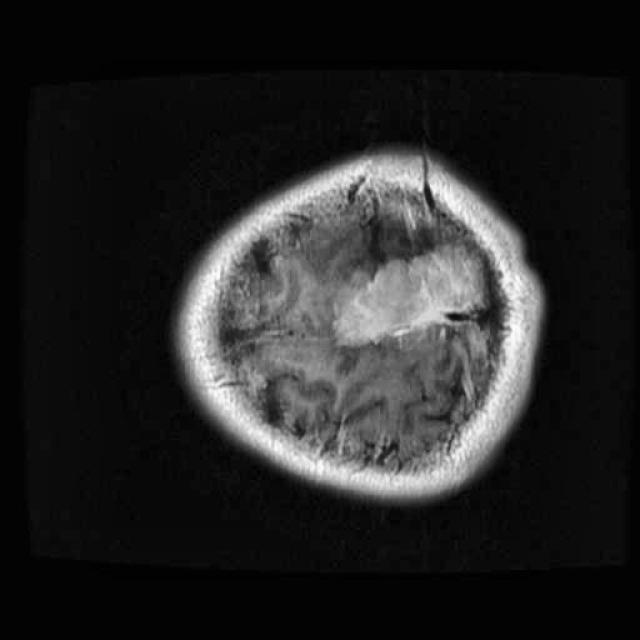Tumor: (326, 238, 491, 358)
